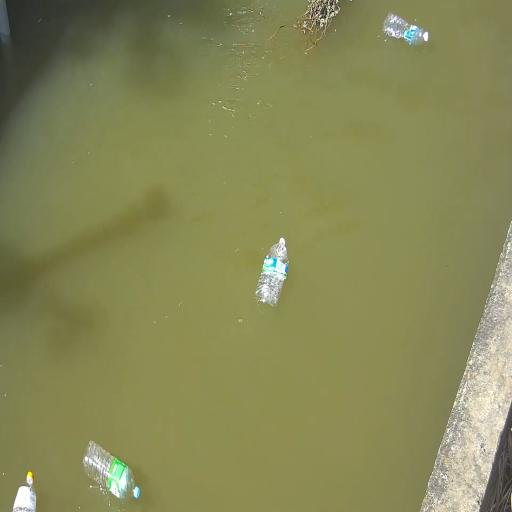plastic: (83, 440, 140, 500), (256, 238, 288, 306), (383, 13, 428, 45), (13, 472, 36, 511)
twig: (269, 0, 341, 57)
